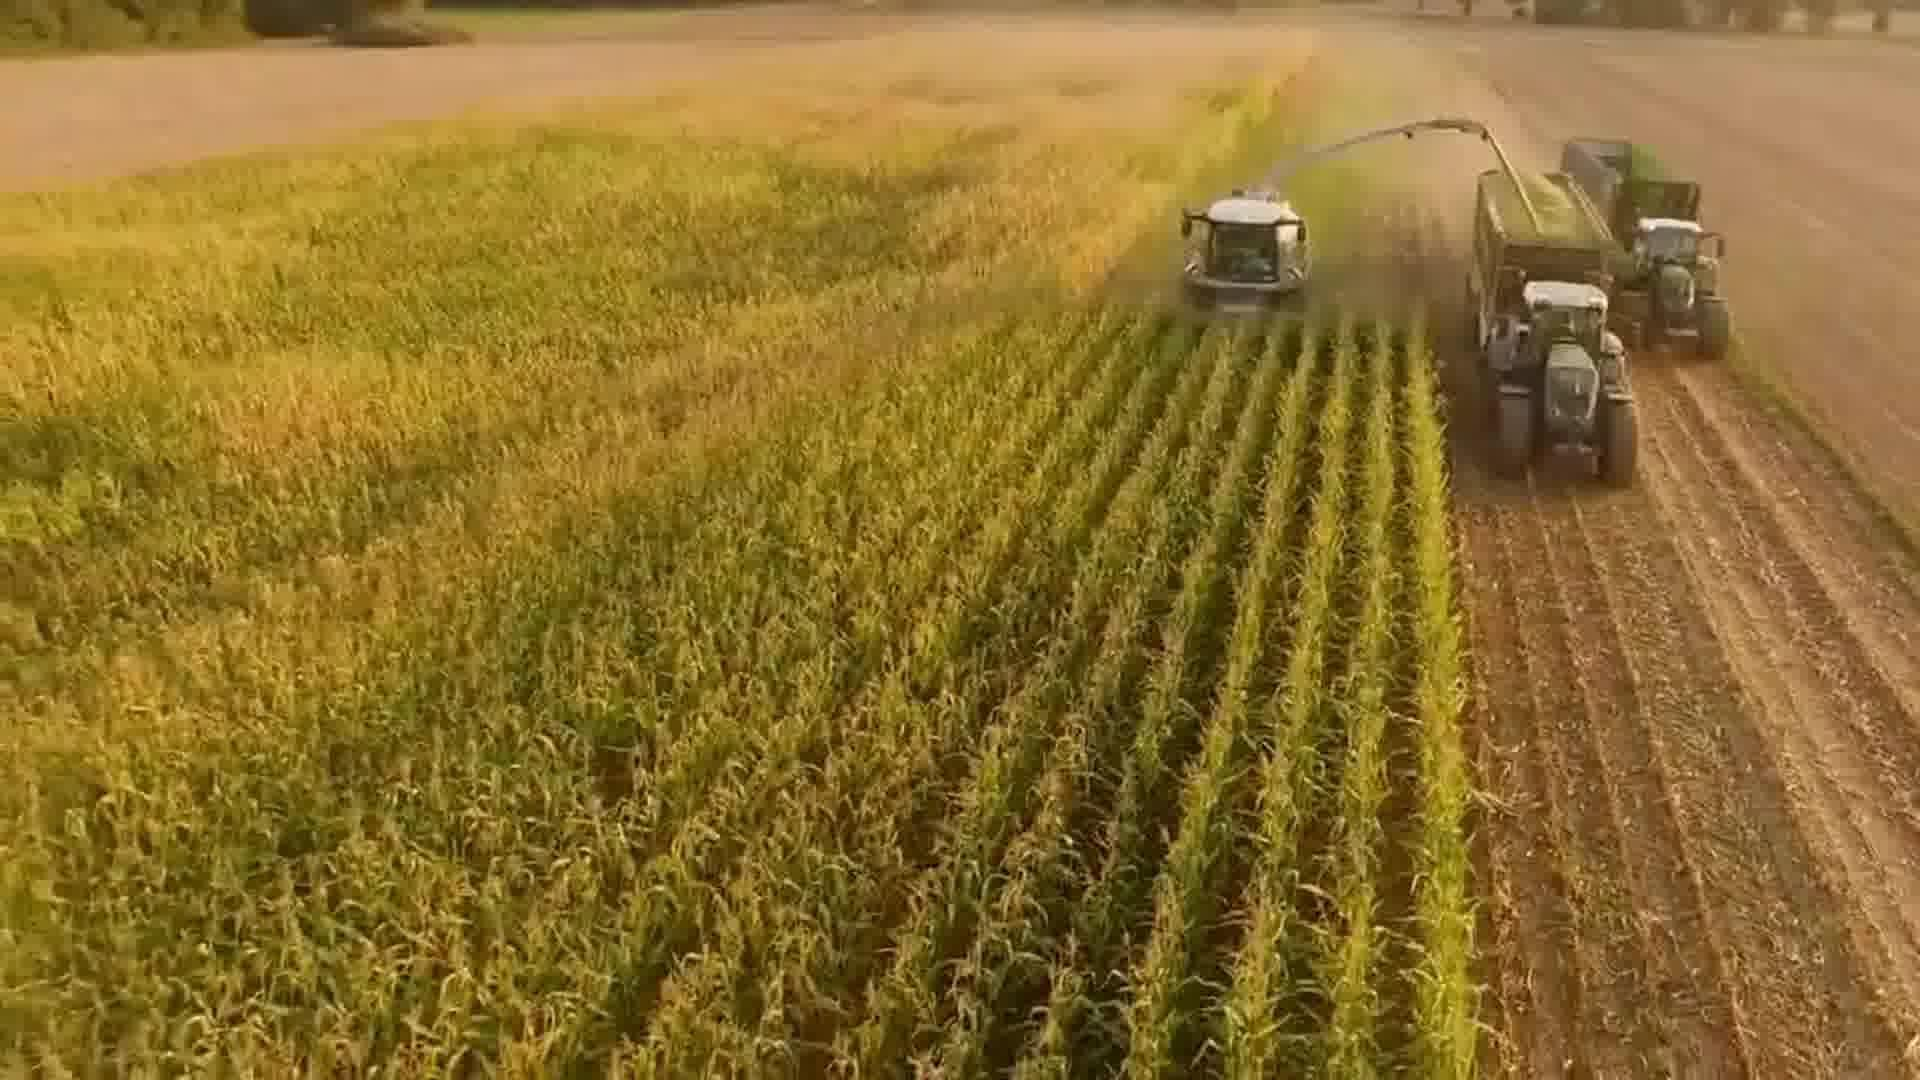combine harvester: (1162, 107, 1495, 340)
tractor: (1478, 273, 1648, 501), (1614, 212, 1739, 361)
trailer: (1466, 160, 1613, 311), (1552, 127, 1704, 223)
